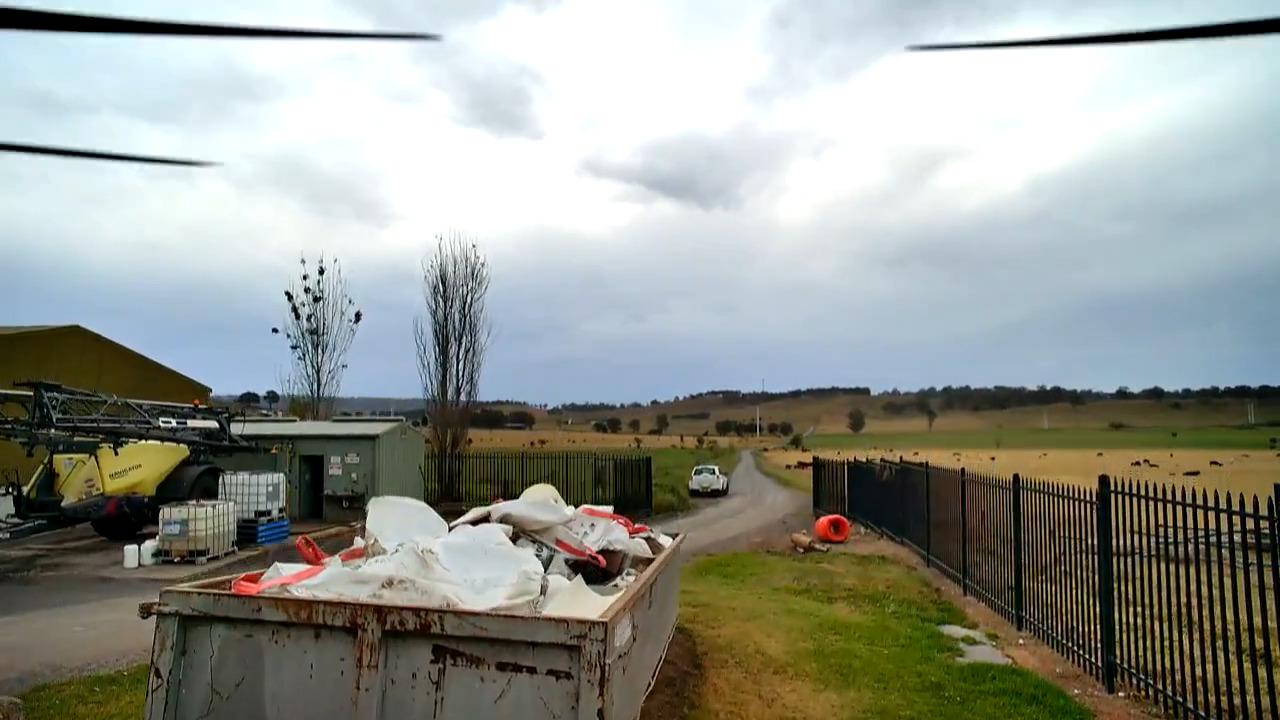Car: (688, 465, 729, 496)
